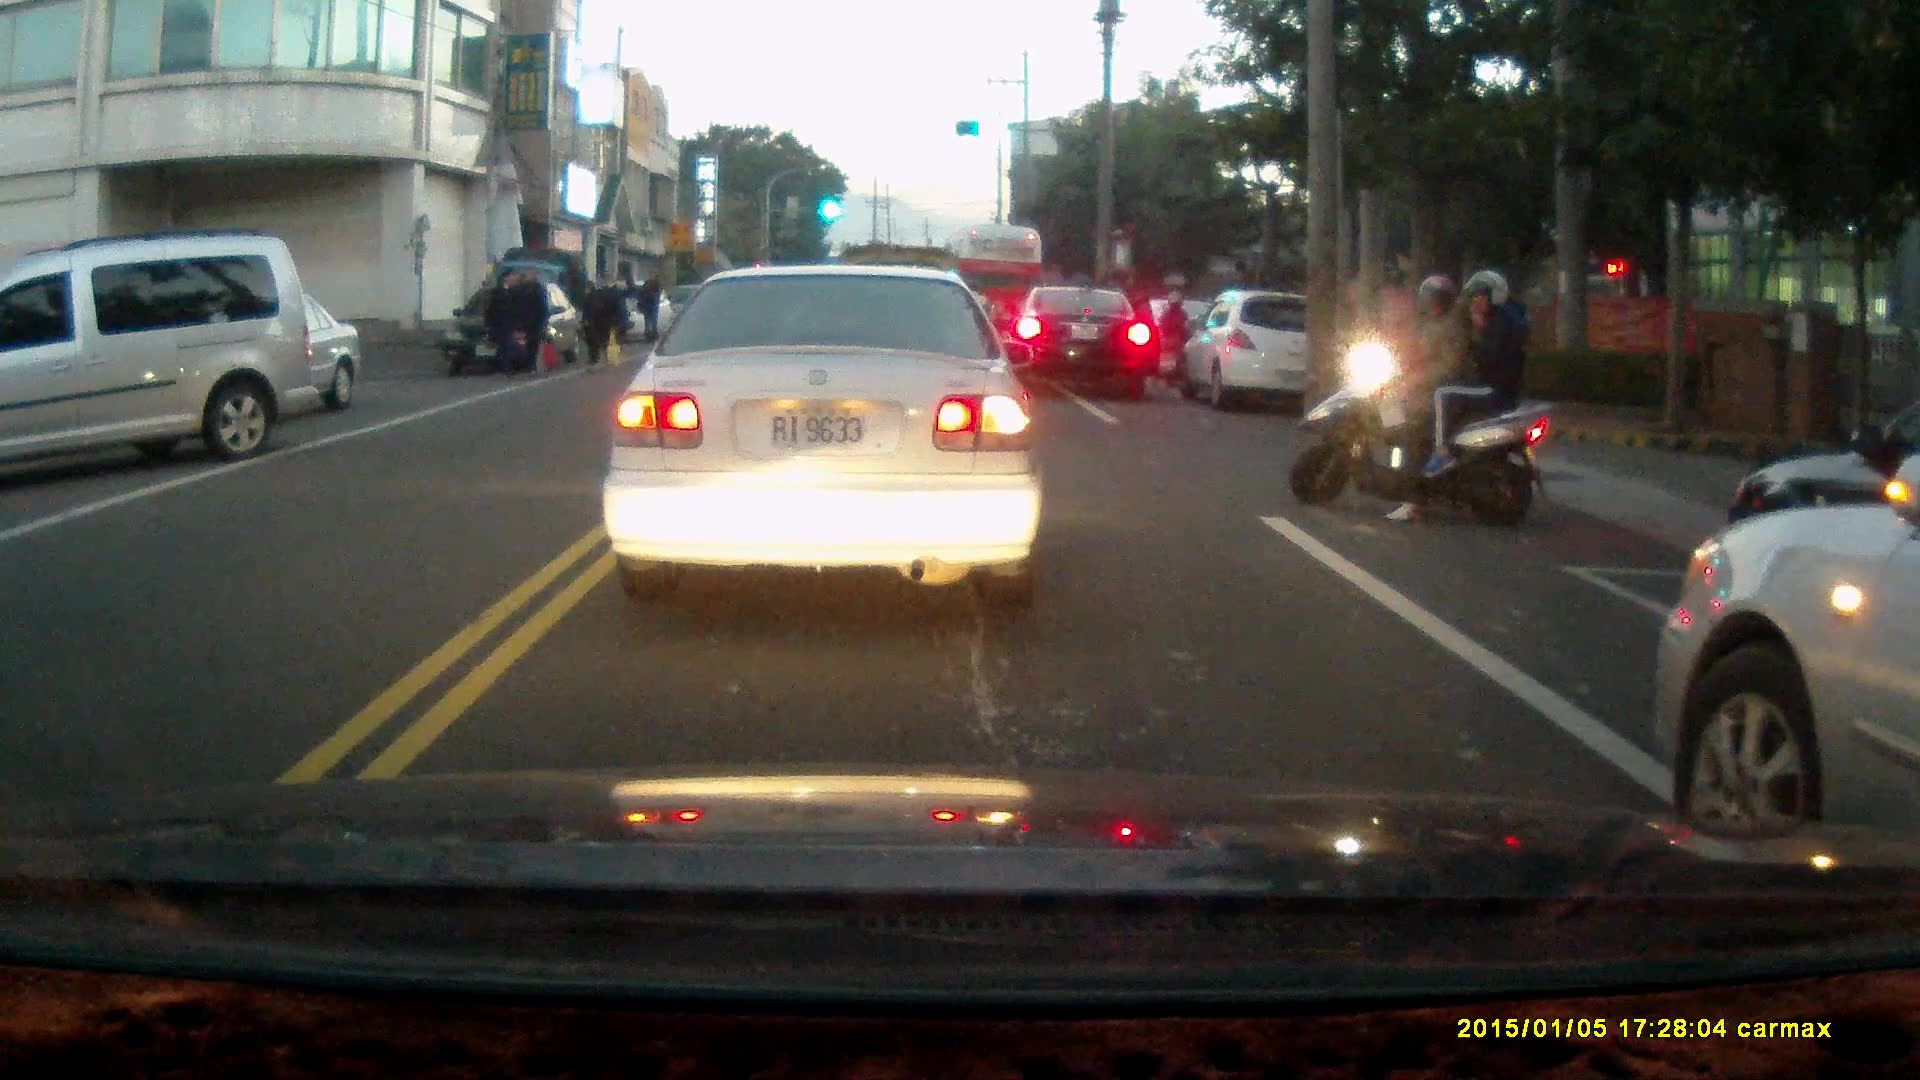pedestrian: (486, 263, 528, 381), (511, 263, 546, 376), (577, 266, 615, 369), (607, 269, 634, 348), (641, 271, 668, 342)
rider: (1282, 266, 1555, 534), (1155, 285, 1194, 390)
vehicle: (599, 259, 1044, 607), (1654, 451, 1920, 847), (1, 240, 316, 480), (1187, 289, 1352, 406), (1008, 287, 1153, 401), (442, 279, 583, 379)
